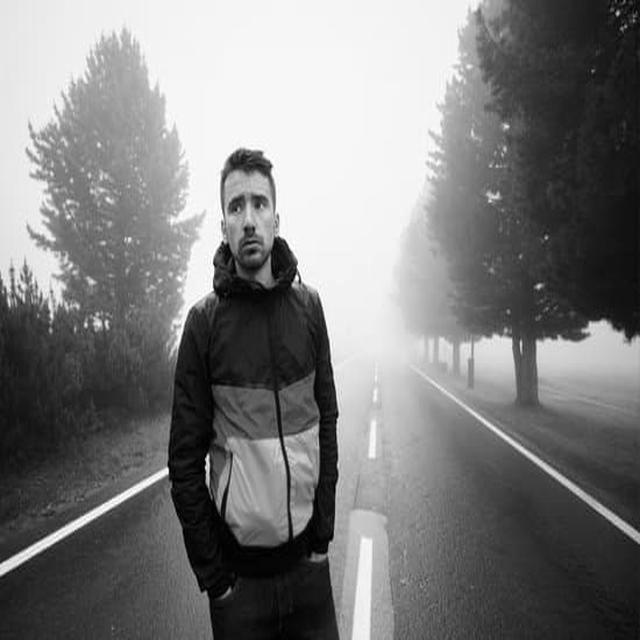Sadness: (226, 174, 272, 267)
